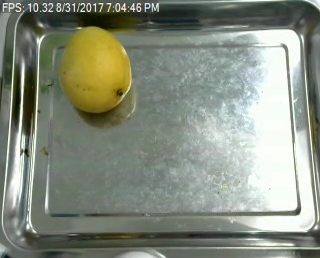Mango: (59, 25, 134, 113)
